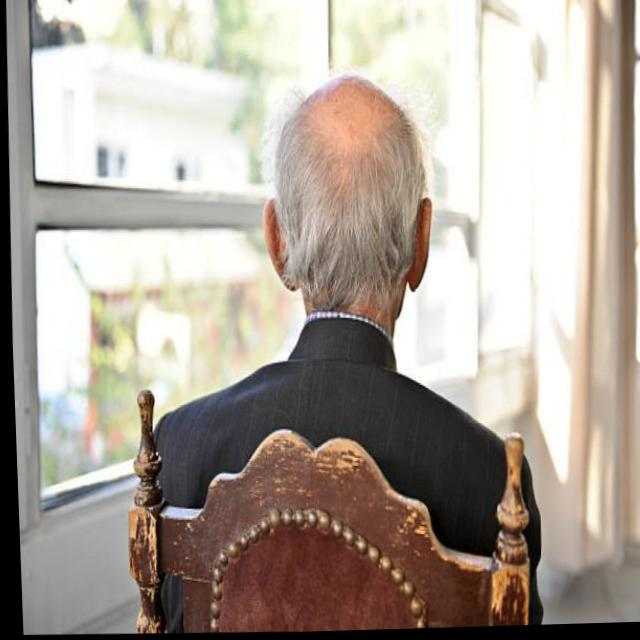no helmet: (270, 82, 427, 331)
